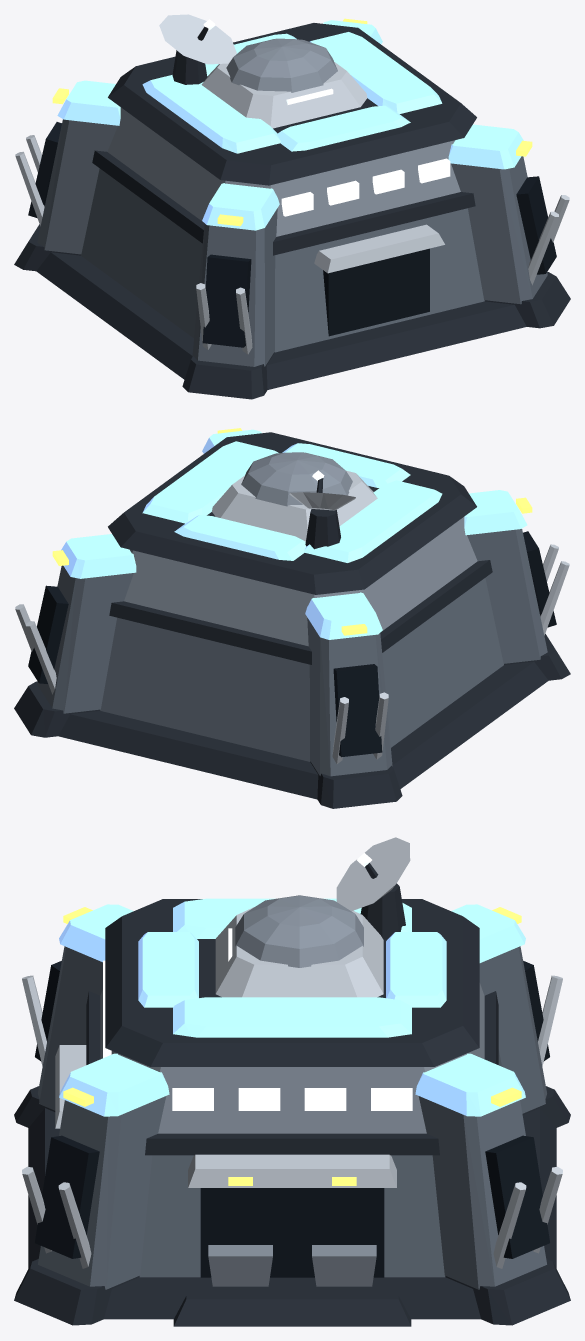
File: colony_hub.glb
3 views of the same model, one above another, from view 1: azimuth 30°, elevation 25°; view 2: azimuth 150°, elevation 25°; view 3: azimuth 270°, elevation 25° (orthographic). The views are drawn at different scales.
Visible parts, largest first — view 1: Surf_dark, Surf_slate, Surf_TEAM, Surf_armor, Surf_light, Surf_bay, Surf_win, Surf_amber; view 2: Surf_slate, Surf_dark, Surf_TEAM, Surf_armor, Surf_light, Surf_bay, Surf_amber; view 3: Surf_dark, Surf_slate, Surf_TEAM, Surf_armor, Surf_light, Surf_bay, Surf_win, Surf_amber.
Part boxes in pixels (bbox=[...]): Surf_dark: bbox=[14, 23, 570, 399]; Surf_slate: bbox=[37, 119, 547, 366]; Surf_TEAM: bbox=[57, 20, 523, 230]; Surf_armor: bbox=[107, 38, 460, 236]; Surf_light: bbox=[15, 14, 569, 354]; Surf_bay: bbox=[28, 122, 556, 347]; Surf_win: bbox=[281, 158, 450, 216]; Surf_amber: bbox=[52, 18, 532, 226]; Surf_slate: bbox=[37, 529, 547, 776]; Surf_dark: bbox=[14, 432, 570, 808]; Surf_TEAM: bbox=[61, 429, 527, 639]; Surf_armor: bbox=[124, 452, 477, 646]; Surf_light: bbox=[15, 470, 569, 763]; Surf_bay: bbox=[28, 531, 556, 757]; Surf_amber: bbox=[52, 428, 532, 635]; Surf_dark: bbox=[14, 863, 570, 1326]; Surf_slate: bbox=[38, 946, 546, 1289]; Surf_TEAM: bbox=[59, 898, 525, 1116]; Surf_armor: bbox=[100, 895, 484, 1286]; Surf_light: bbox=[22, 837, 562, 1268]; Surf_bay: bbox=[35, 960, 549, 1277]; Surf_win: bbox=[103, 960, 412, 1110]; Surf_amber: bbox=[63, 907, 521, 1185].
Size of the model in its own units: 7.78 by 4.93 by 7.74.
